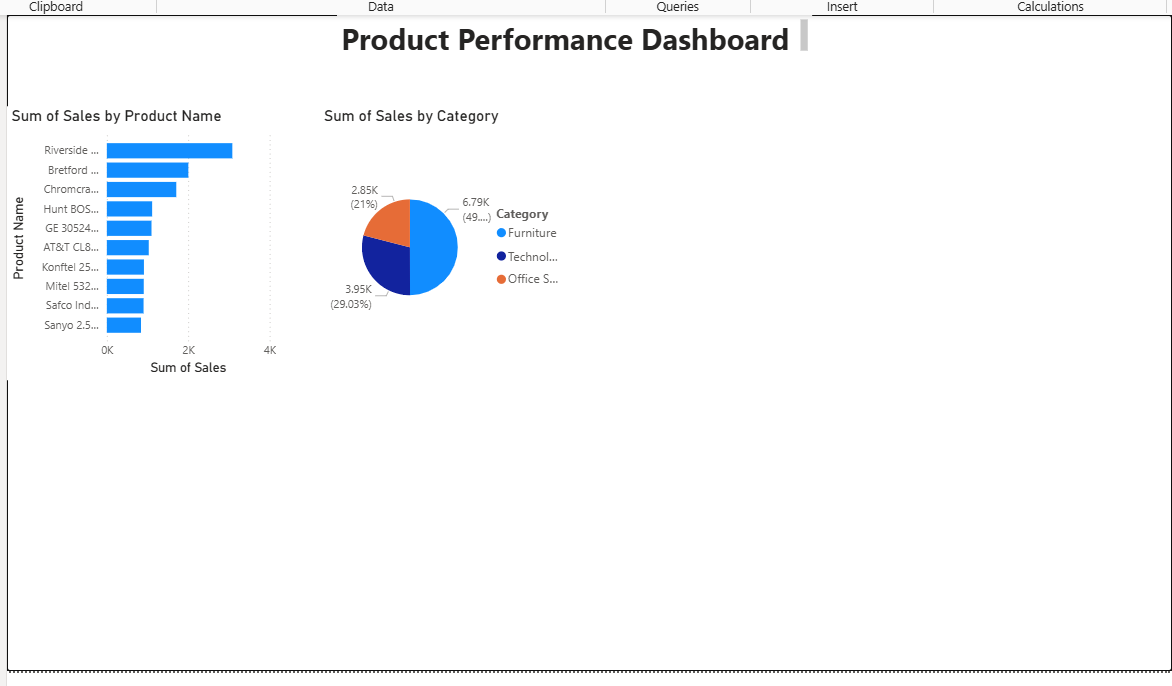

The dashboard page shown, as its layout file describes it:
{"tool":"powerbi","page":{"name":"Product Analytics","canvas":[1280,720],"ordinal":1},"visuals":[{"type":"pieChart","fields":{"Category":["sales_project.Category"],"Y":["Sum(sales_project.Sales)"]},"box":[343.1,100.2,279.9,290.9],"z":0},{"type":"clusteredBarChart","fields":{"Category":["sales_project.Product Name"],"Y":["Sum(sales_project.Sales)"]},"box":[0,100.2,300.5,300.5],"z":1},{"type":"textbox","box":[362.3,0,521.4,48],"z":2}]}

Visuals, with their boxes on the page's 1280x720 design canvas (x1, y1, x2, y2). These are canvas units, not pixel positions in the 1172x686 screenshot, which may show the page scaled, cropped or inside an application window:
pieChart - sales_project.Category x Sum(sales_project.Sales): 343, 100, 623, 391
clusteredBarChart - sales_project.Product Name x Sum(sales_project.Sales): 0, 100, 300, 401
textbox: 362, 0, 884, 48
